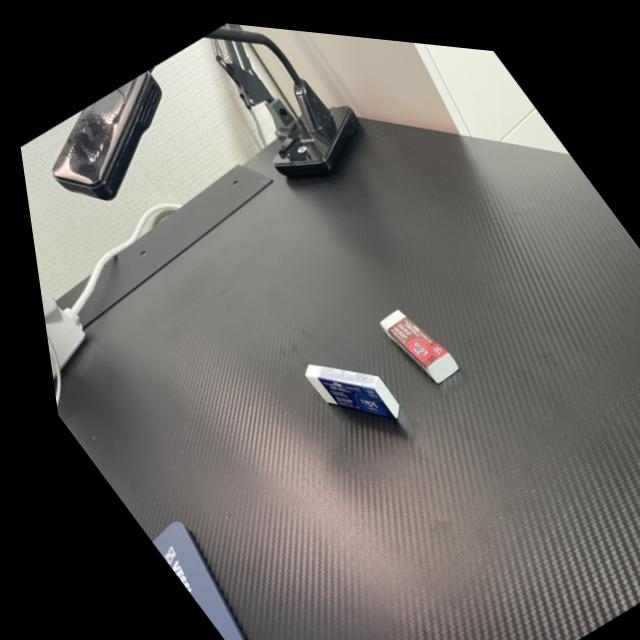blue: (273, 314, 413, 457)
red: (357, 278, 465, 393)
